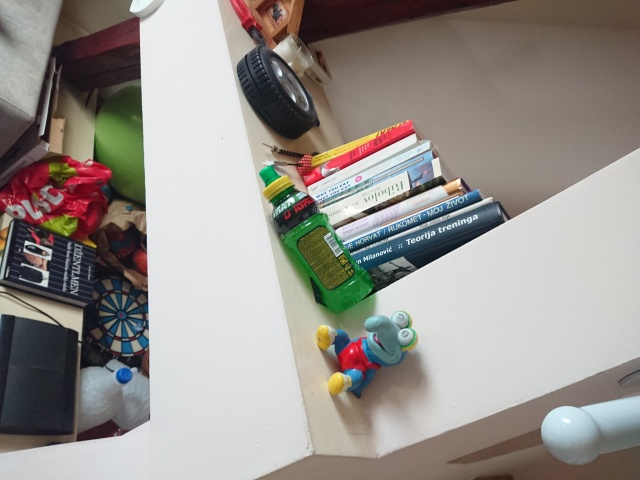Vindi Iso Sport Lemon-Grapefruit 500mL: (257, 164, 377, 314)
